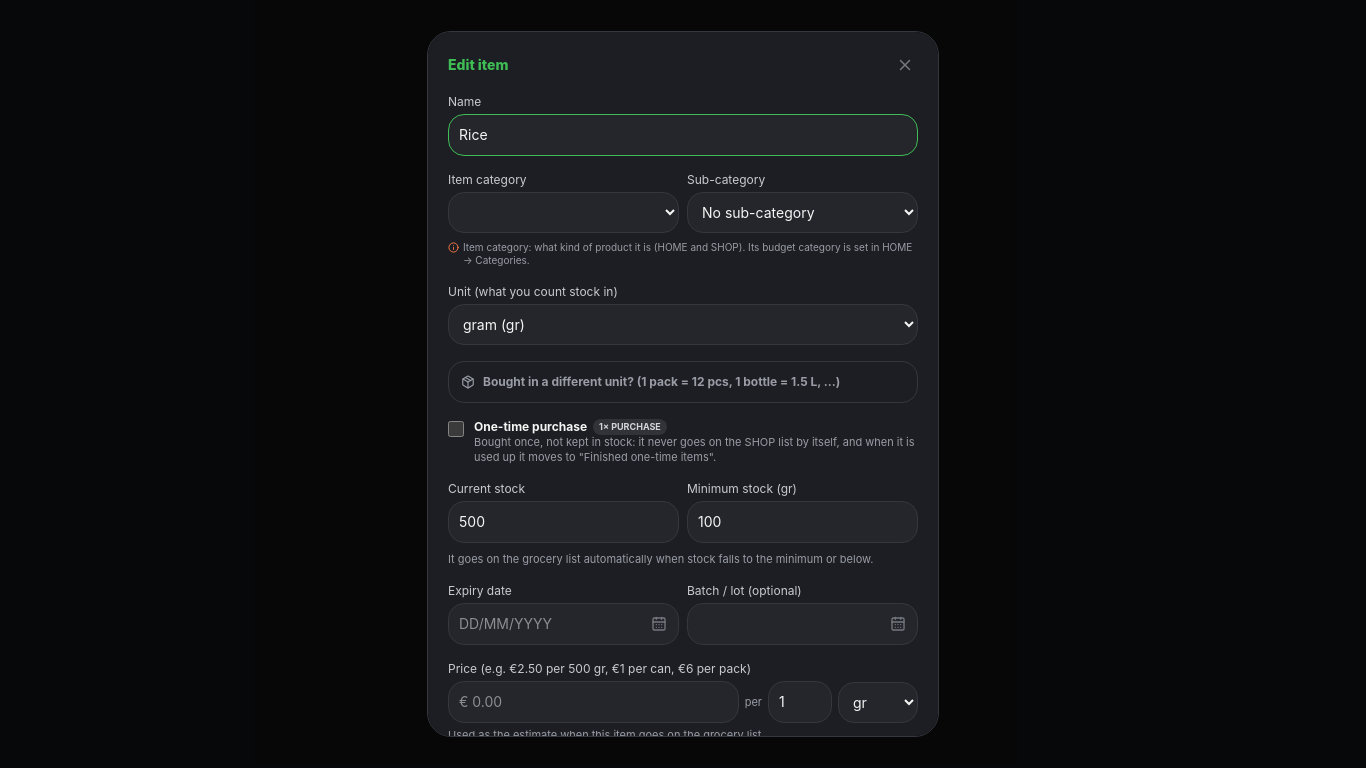
Test: HOME item editor: the question comes to the front › changing the unit asks in front of the editor; Cancel keeps it as it was; "Change unit" converts
Select "kilogram (kg)" in the 3rd dropdown at coordinates (683, 325), box [448,304,918,345]
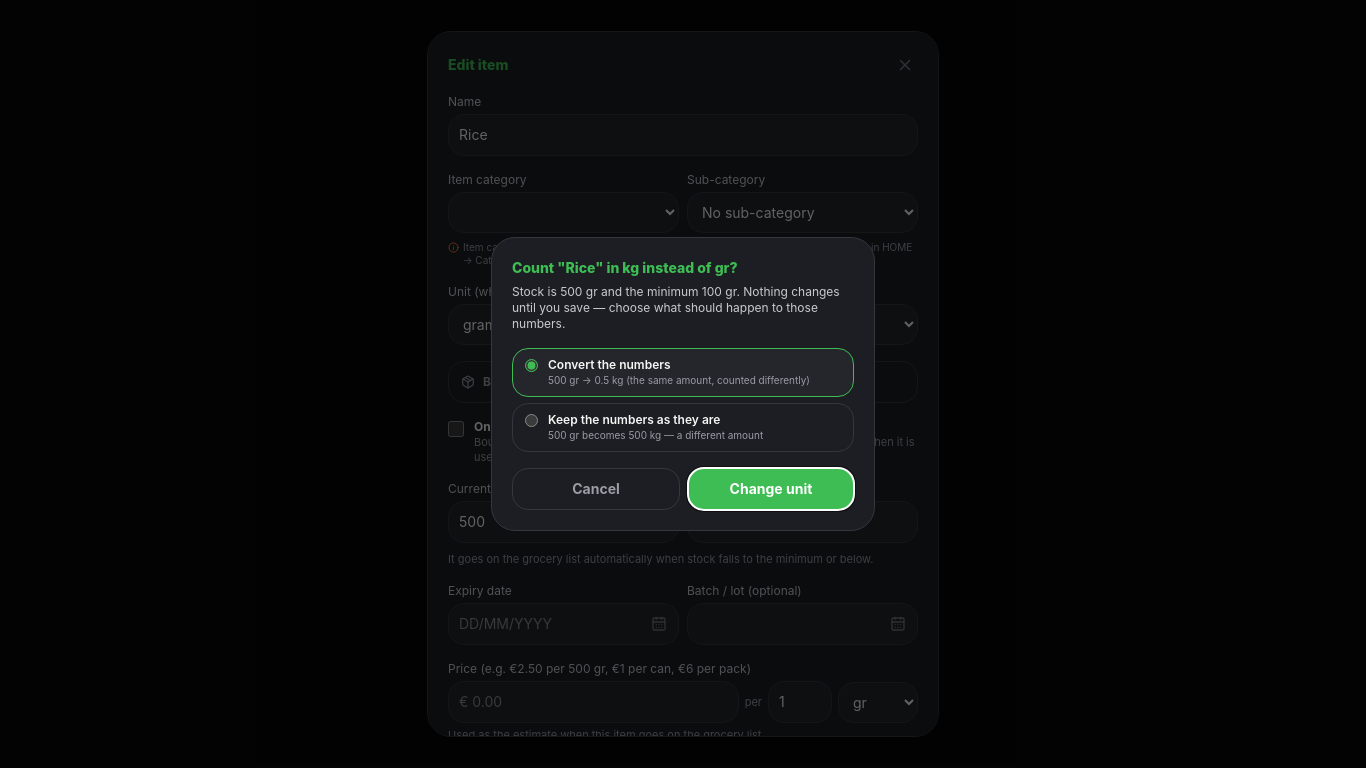
Click the button "Cancel".
click(596, 489)  # box [512,468,680,510]
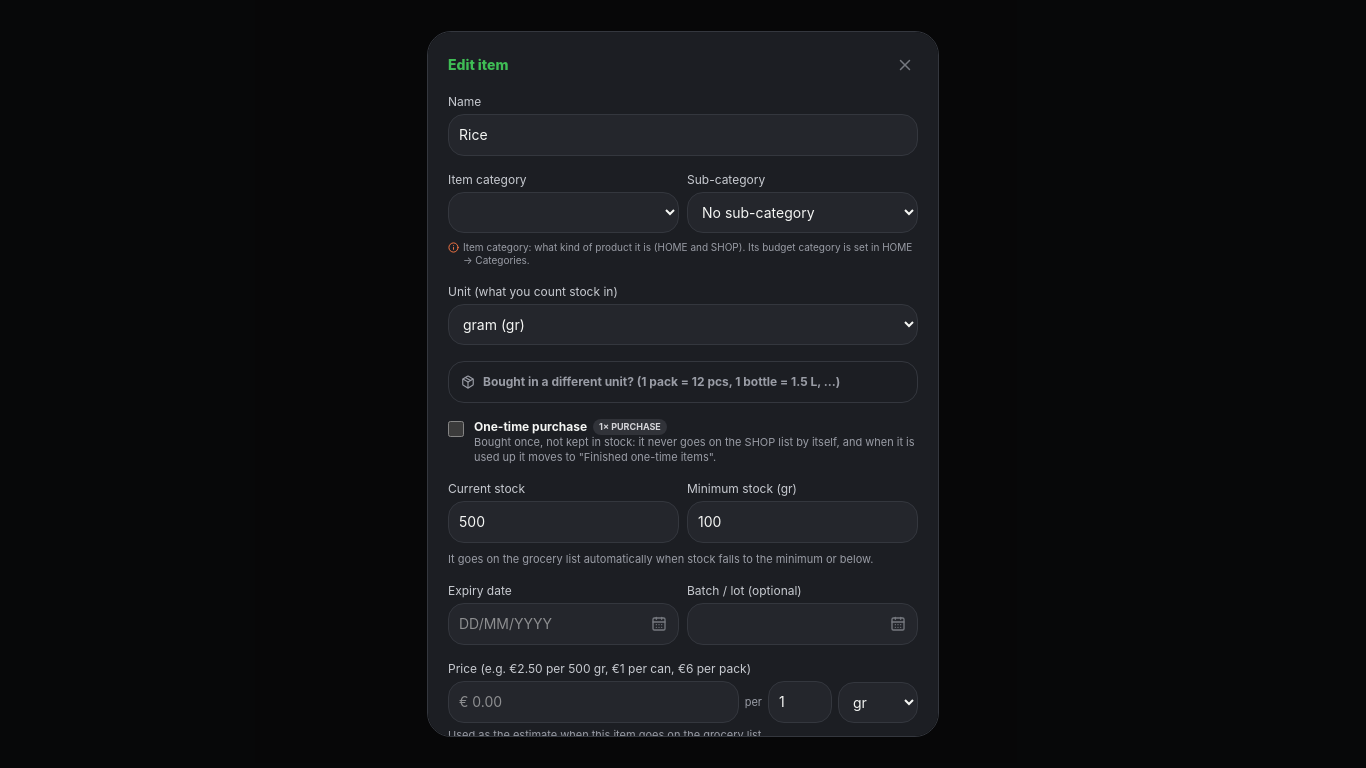
Check: the text "Count \"Rice\" in kg instead of gr?" is gone
Select "kilogram (kg)" in the 3rd dropdown at coordinates (683, 325), box [448,304,918,345]
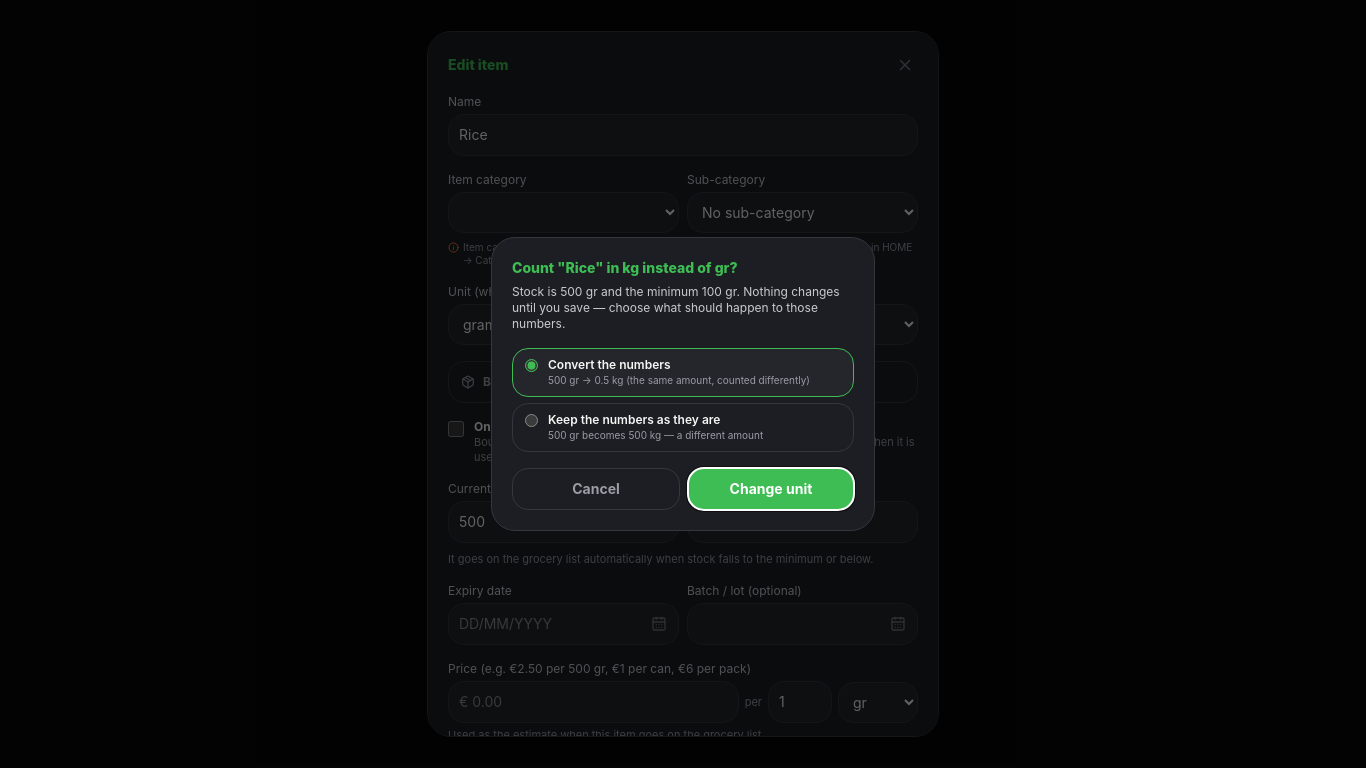
Click the button "Change unit".
click(771, 489)  # box [688,468,854,510]
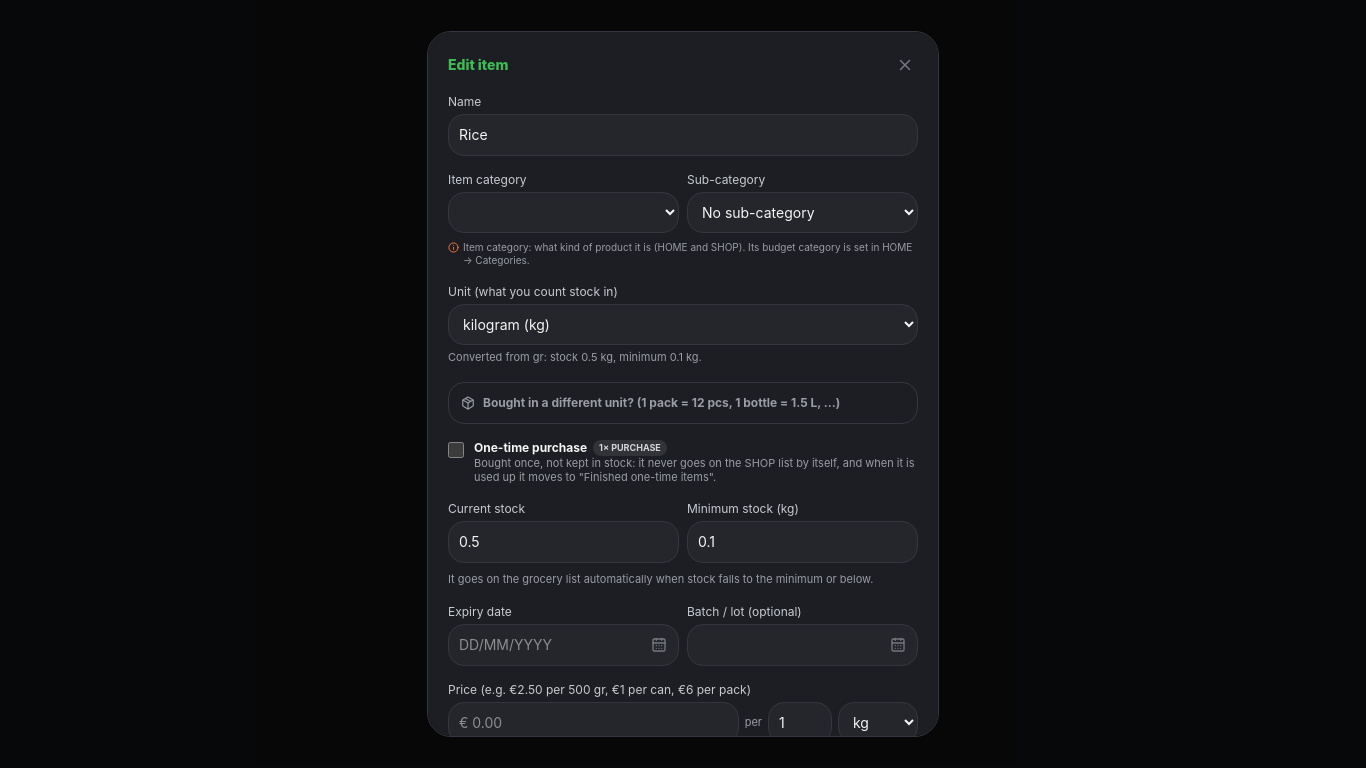
Check: the text "Converted from gr: stock 0.5 kg, minimum 0.1 kg." is shown, box [448,350,702,364]
